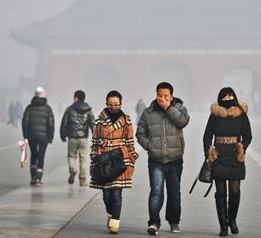person: (198, 86, 255, 237), (136, 80, 189, 237), (88, 89, 139, 235), (17, 86, 57, 188), (59, 88, 96, 189), (6, 100, 16, 127), (135, 98, 146, 116), (15, 102, 23, 119)
